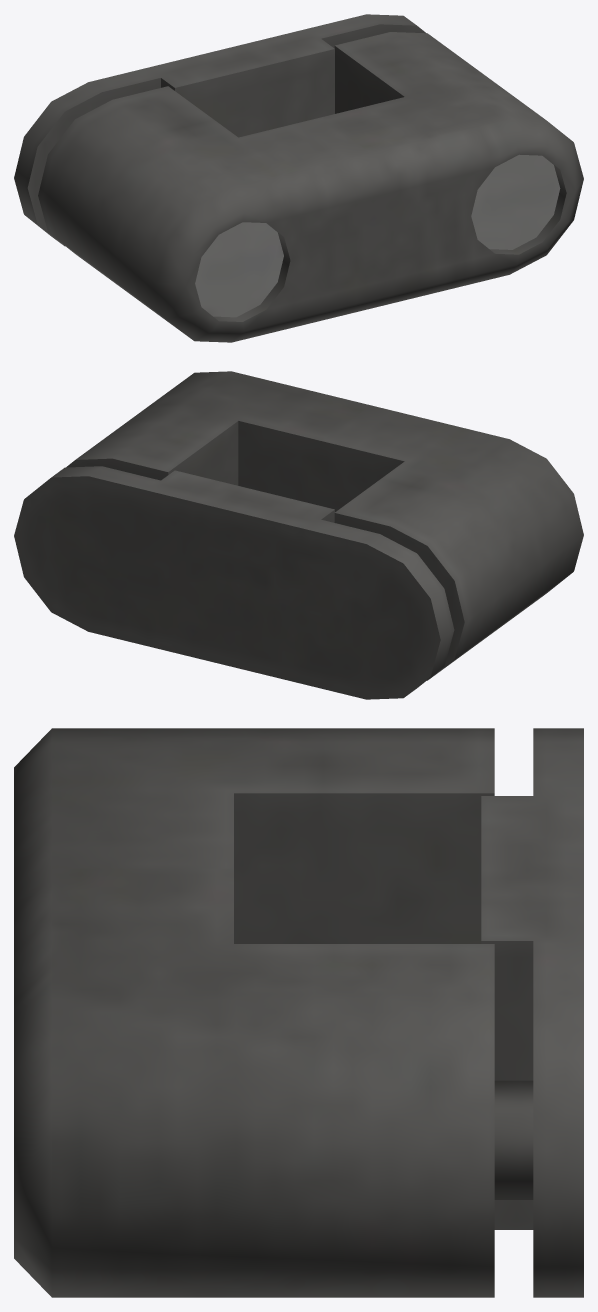
File: cable_cable_mount.fbx
3 views of the same model, one above another, from view 1: azimuth 30°, elevation 25°; view 2: azimuth 150°, elevation 25°; view 3: azimuth 270°, elevation 25° (orthographic). The views are drawn at different scales.
Parts seen in each view (by area): view 1: modular_electric_cables__cable_mount; view 2: modular_electric_cables__cable_mount; view 3: modular_electric_cables__cable_mount.
Part boxes in pixels (x1,y1,x2,y2): modular_electric_cables__cable_mount: (14, 14, 583, 342); modular_electric_cables__cable_mount: (14, 371, 583, 699); modular_electric_cables__cable_mount: (14, 728, 583, 1297).
Size of the model in its own units: 0.0416 by 0.0145 by 0.0259.
